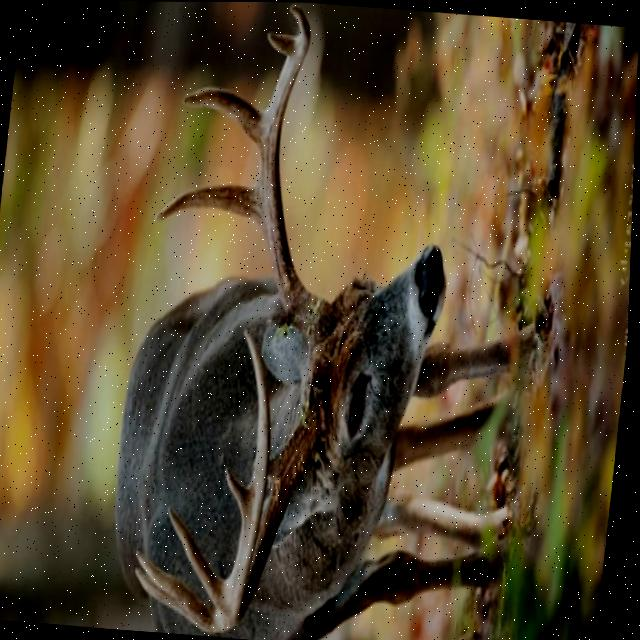L-F: (216, 327, 327, 633)
L-G3: (139, 547, 220, 632)
L-G4: (172, 504, 230, 604)
L-G5: (228, 463, 253, 517)
R-F: (260, 2, 325, 338)
R-G1: (267, 304, 293, 327)
R-G2: (155, 180, 261, 222)
R-G3: (183, 86, 266, 146)
R-G4: (267, 29, 298, 54)
